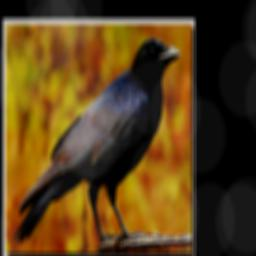Crow: (13, 34, 181, 244)
